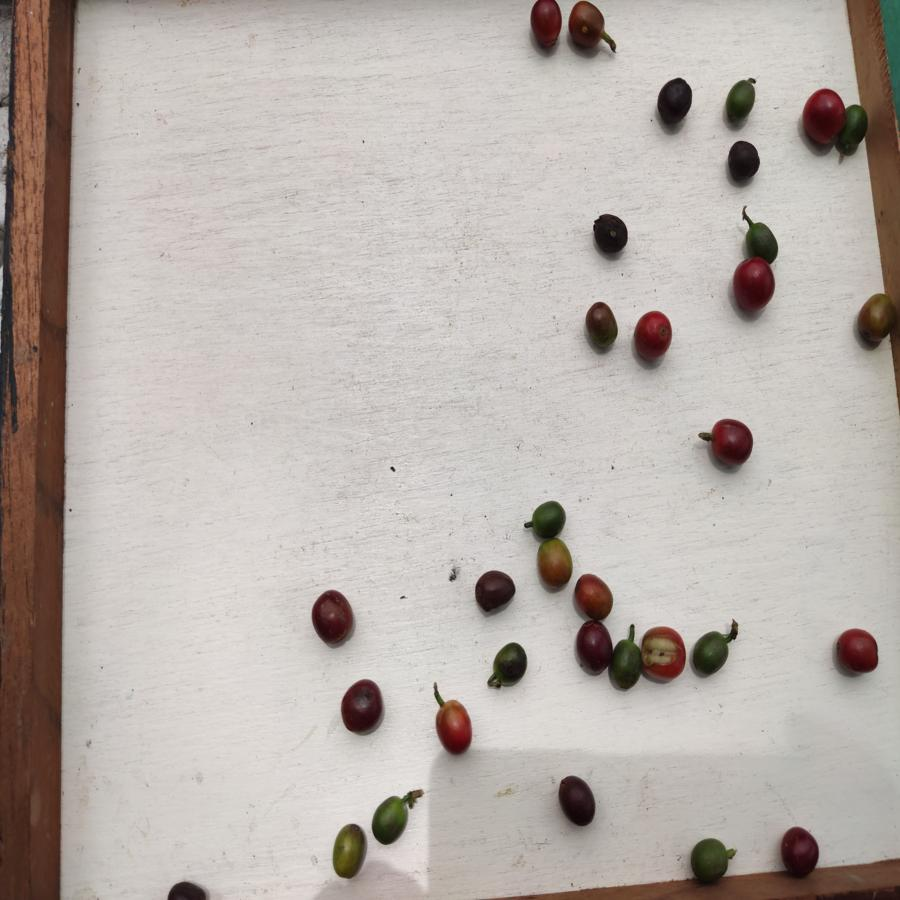Inmaduro: (371, 794, 408, 844), (691, 628, 729, 676), (690, 837, 727, 884), (611, 637, 641, 690), (492, 641, 527, 685), (743, 221, 780, 261), (725, 79, 756, 123), (530, 500, 565, 538), (845, 102, 868, 155)
Maduro: (640, 625, 685, 681), (800, 87, 843, 143), (432, 698, 474, 755), (833, 628, 880, 677), (735, 261, 776, 314), (708, 419, 753, 466), (574, 572, 616, 622), (633, 309, 673, 361), (528, 1, 563, 48)
Pinton: (331, 822, 366, 880), (856, 292, 895, 344), (569, 1, 605, 53), (537, 538, 573, 589), (586, 301, 618, 350)
Sobremaduro: (340, 678, 385, 733), (312, 589, 354, 646), (555, 774, 596, 827), (781, 826, 821, 878), (574, 620, 611, 675), (473, 568, 517, 611), (654, 78, 694, 124), (590, 212, 632, 252), (725, 139, 759, 183)
